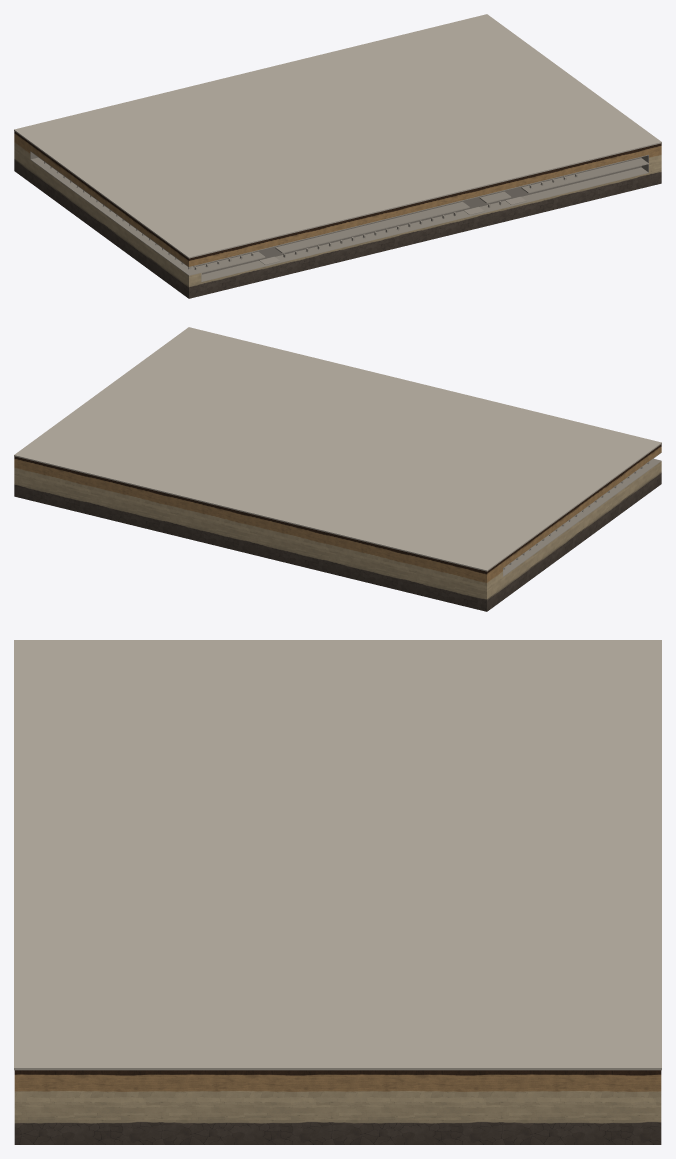
File: district-base.glb
The picture shows the model from 3 angles, top to bottom: view 1: azimuth 30°, elevation 25°; view 2: azimuth 150°, elevation 25°; view 3: azimuth 270°, elevation 25°; orthographic projection. The views are drawn at different scales.
Visible parts, largest first — view 1: district-base; view 2: district-base; view 3: district-base.
Boxes of the visible parts, x1=… form: district-base: x1=14, y1=14, x2=661, y2=298; district-base: x1=14, y1=327, x2=661, y2=611; district-base: x1=14, y1=640, x2=661, y2=1144.
Size of the model in its own units: 500 by 42 by 320.
Materials: 6 (1 with a texture image).
